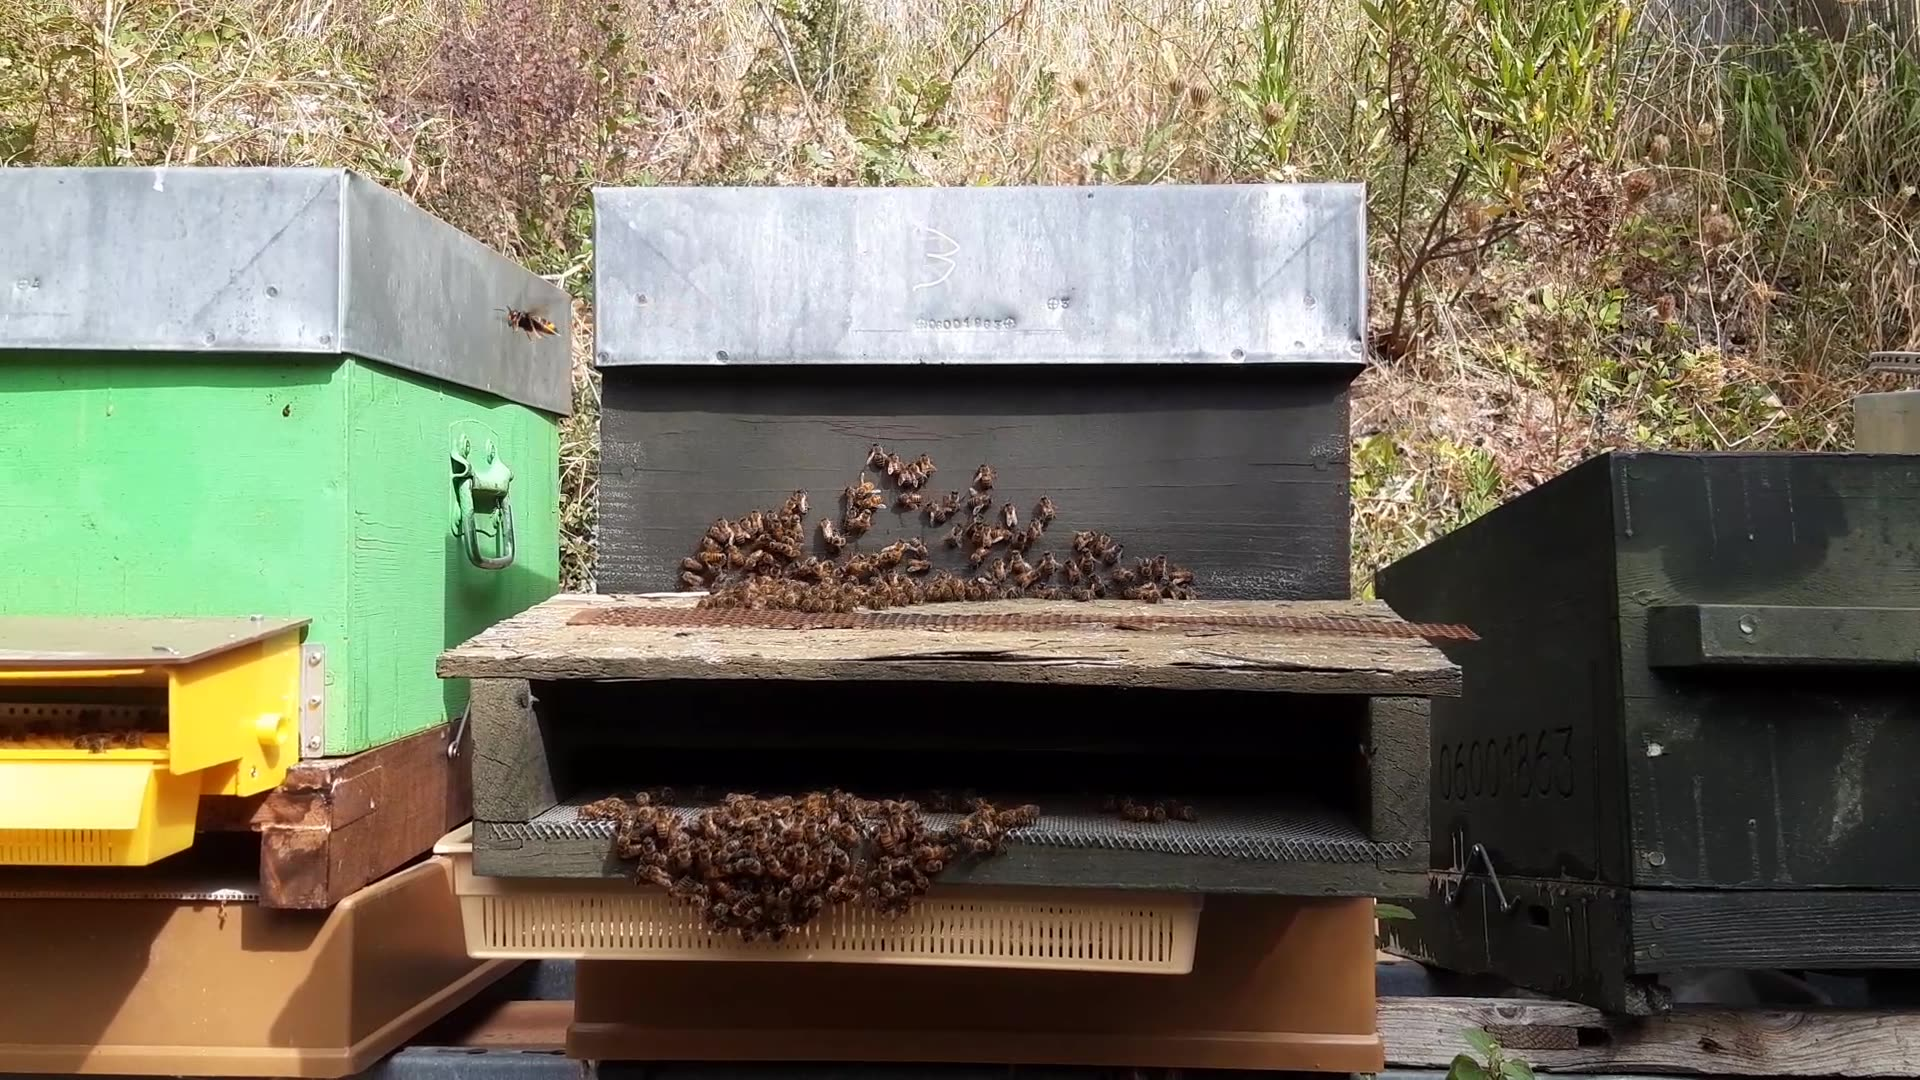bee: (580, 798, 684, 865), (942, 795, 1040, 855), (630, 851, 705, 927), (905, 550, 992, 603), (939, 533, 1009, 593), (729, 516, 802, 572), (731, 793, 808, 843), (1122, 556, 1207, 600), (868, 467, 934, 522), (1362, 320, 1412, 393), (943, 479, 1005, 524), (1036, 527, 1096, 572)
hornet: (524, 313, 575, 344)
